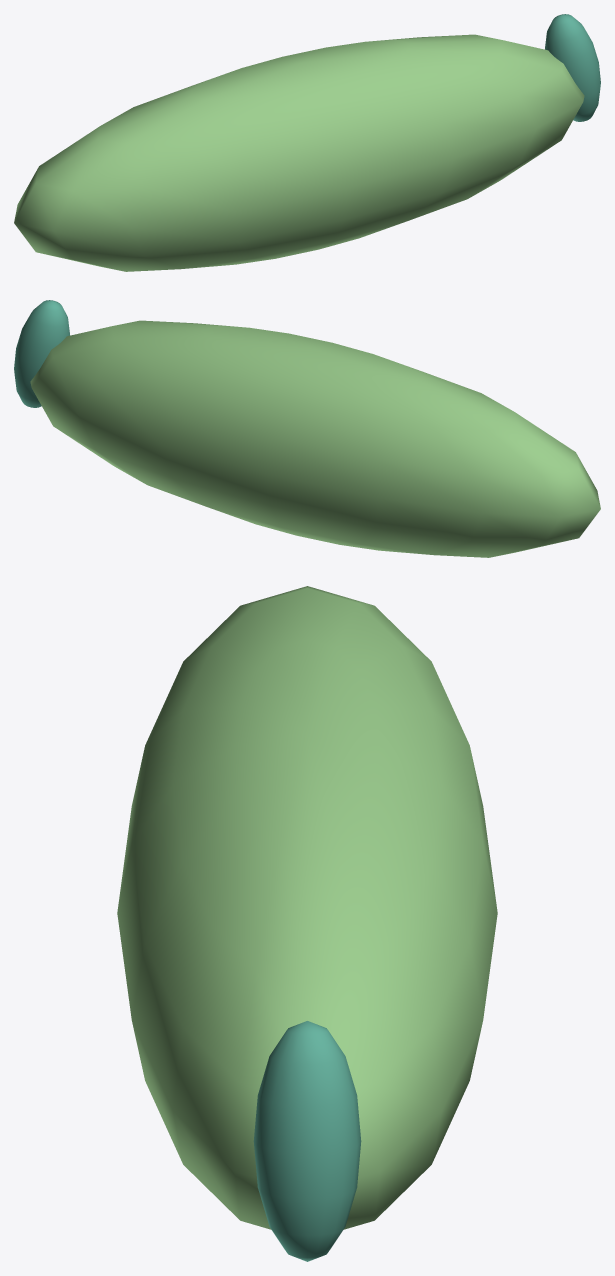
Rendered from cucumber.glb.
3 renders of one model, top to bottom at view 1: azimuth 30°, elevation 25°; view 2: azimuth 150°, elevation 25°; view 3: azimuth 270°, elevation 25°, orthographic. The views are drawn at different scales.
Parts seen in each view (by area): view 1: cucumber; view 2: cucumber; view 3: cucumber.
Part boxes in pixels (bbox=[...]): cucumber: bbox=[14, 14, 600, 271]; cucumber: bbox=[14, 300, 600, 557]; cucumber: bbox=[117, 586, 497, 1261].
Bounding box in the file's own units: 1.63 × 0.48 × 0.46.
